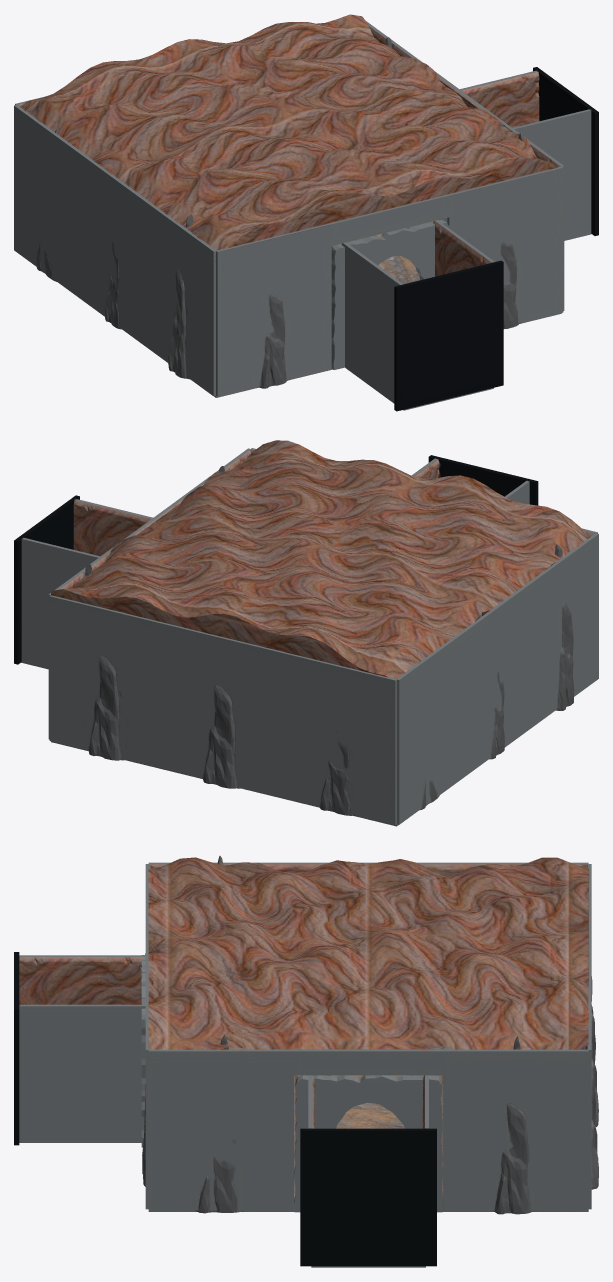
The model's file is room.glb.
3 views of the same model, one above another, from view 1: azimuth 30°, elevation 25°; view 2: azimuth 150°, elevation 25°; view 3: azimuth 270°, elevation 25° (orthographic). The views are drawn at different scales.
Visible parts, largest first — view 1: LAVA-ROOM; view 2: LAVA-ROOM; view 3: LAVA-ROOM.
Part boxes in pixels (x1,y1,x2,y2): LAVA-ROOM: [14, 14, 598, 411]; LAVA-ROOM: [14, 440, 598, 826]; LAVA-ROOM: [14, 856, 598, 1267].
Bounding box in the file's own units: 13.3 × 4.85 × 13.29.
1 material, 1 textured.
